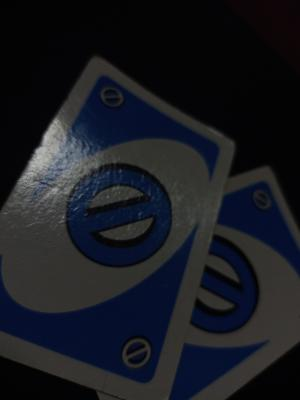blue: (75, 97, 172, 379), (207, 199, 282, 364)
